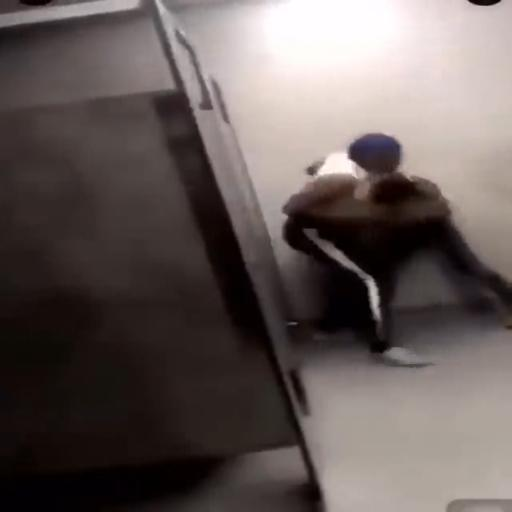violencia: (261, 123, 512, 373)
